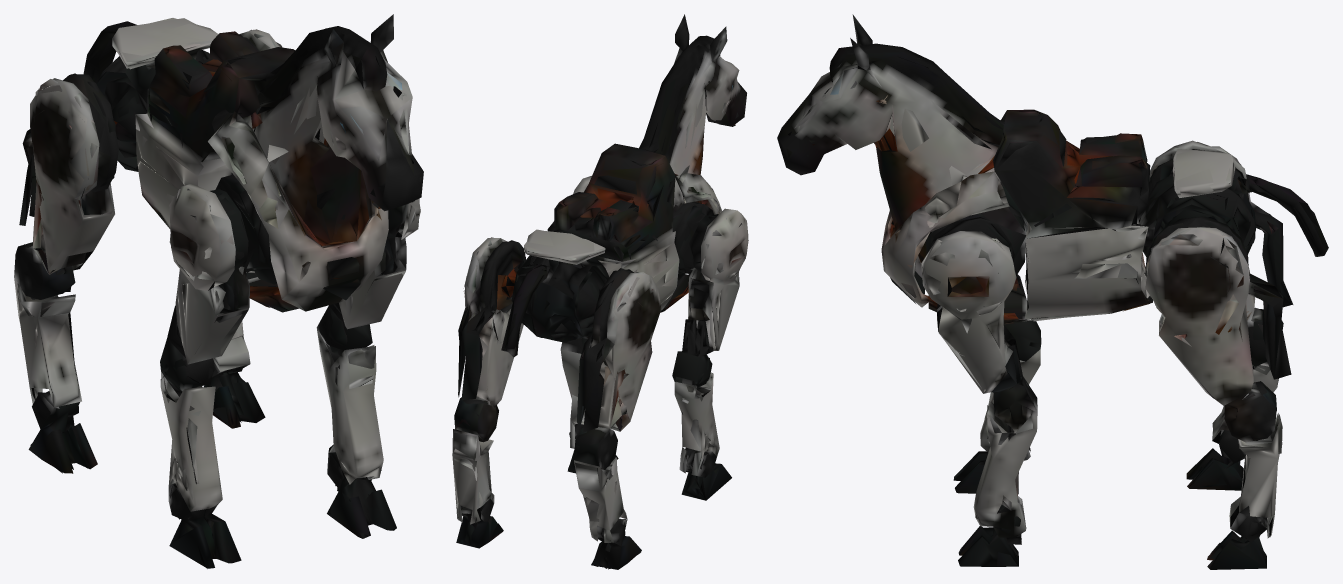
File: detail_13_lo.glb
The picture shows the model from 3 angles, left to right: view 1: azimuth 30°, elevation 25°; view 2: azimuth 150°, elevation 25°; view 3: azimuth 270°, elevation 25°; orthographic projection. The views are drawn at different scales.
Parts seen in each view (by area): view 1: Mesh_0.001; view 2: Mesh_0.001; view 3: Mesh_0.001.
Boxes of the visible parts, box(x1,y1,x2,y2) form: Mesh_0.001: box(14, 14, 423, 568); Mesh_0.001: box(452, 14, 748, 569); Mesh_0.001: box(777, 14, 1328, 569).
Bounding box in the file's own units: 0.42 × 0.9905 × 0.987.
Materials: 1 (1 with a texture image).
